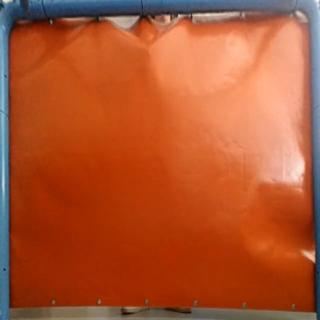Hit-hRxx: (142, 43, 156, 57)
